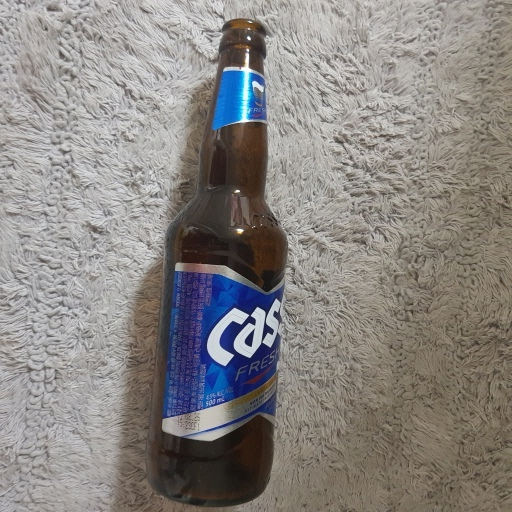Glass_1: (153, 16, 292, 507)
